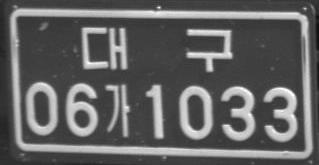0: (178, 84, 213, 141), (24, 80, 58, 135)
1: (141, 84, 172, 139)
3: (221, 84, 256, 142), (263, 85, 298, 142)
6: (64, 82, 97, 136)
가: (105, 82, 130, 138)
대구_D: (81, 26, 232, 73)
